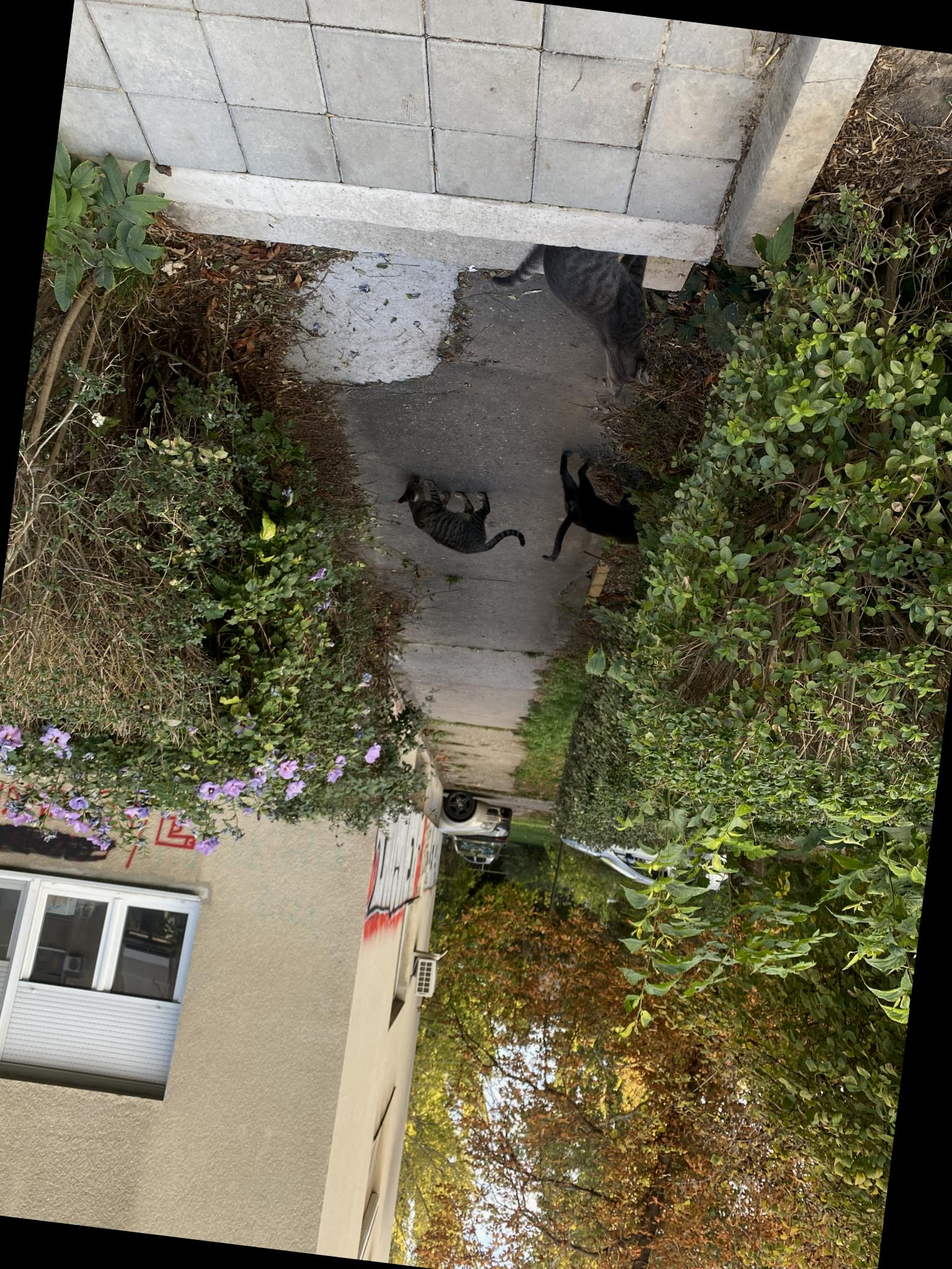macka: (478, 237, 664, 402), (540, 448, 650, 572), (392, 472, 532, 560)
